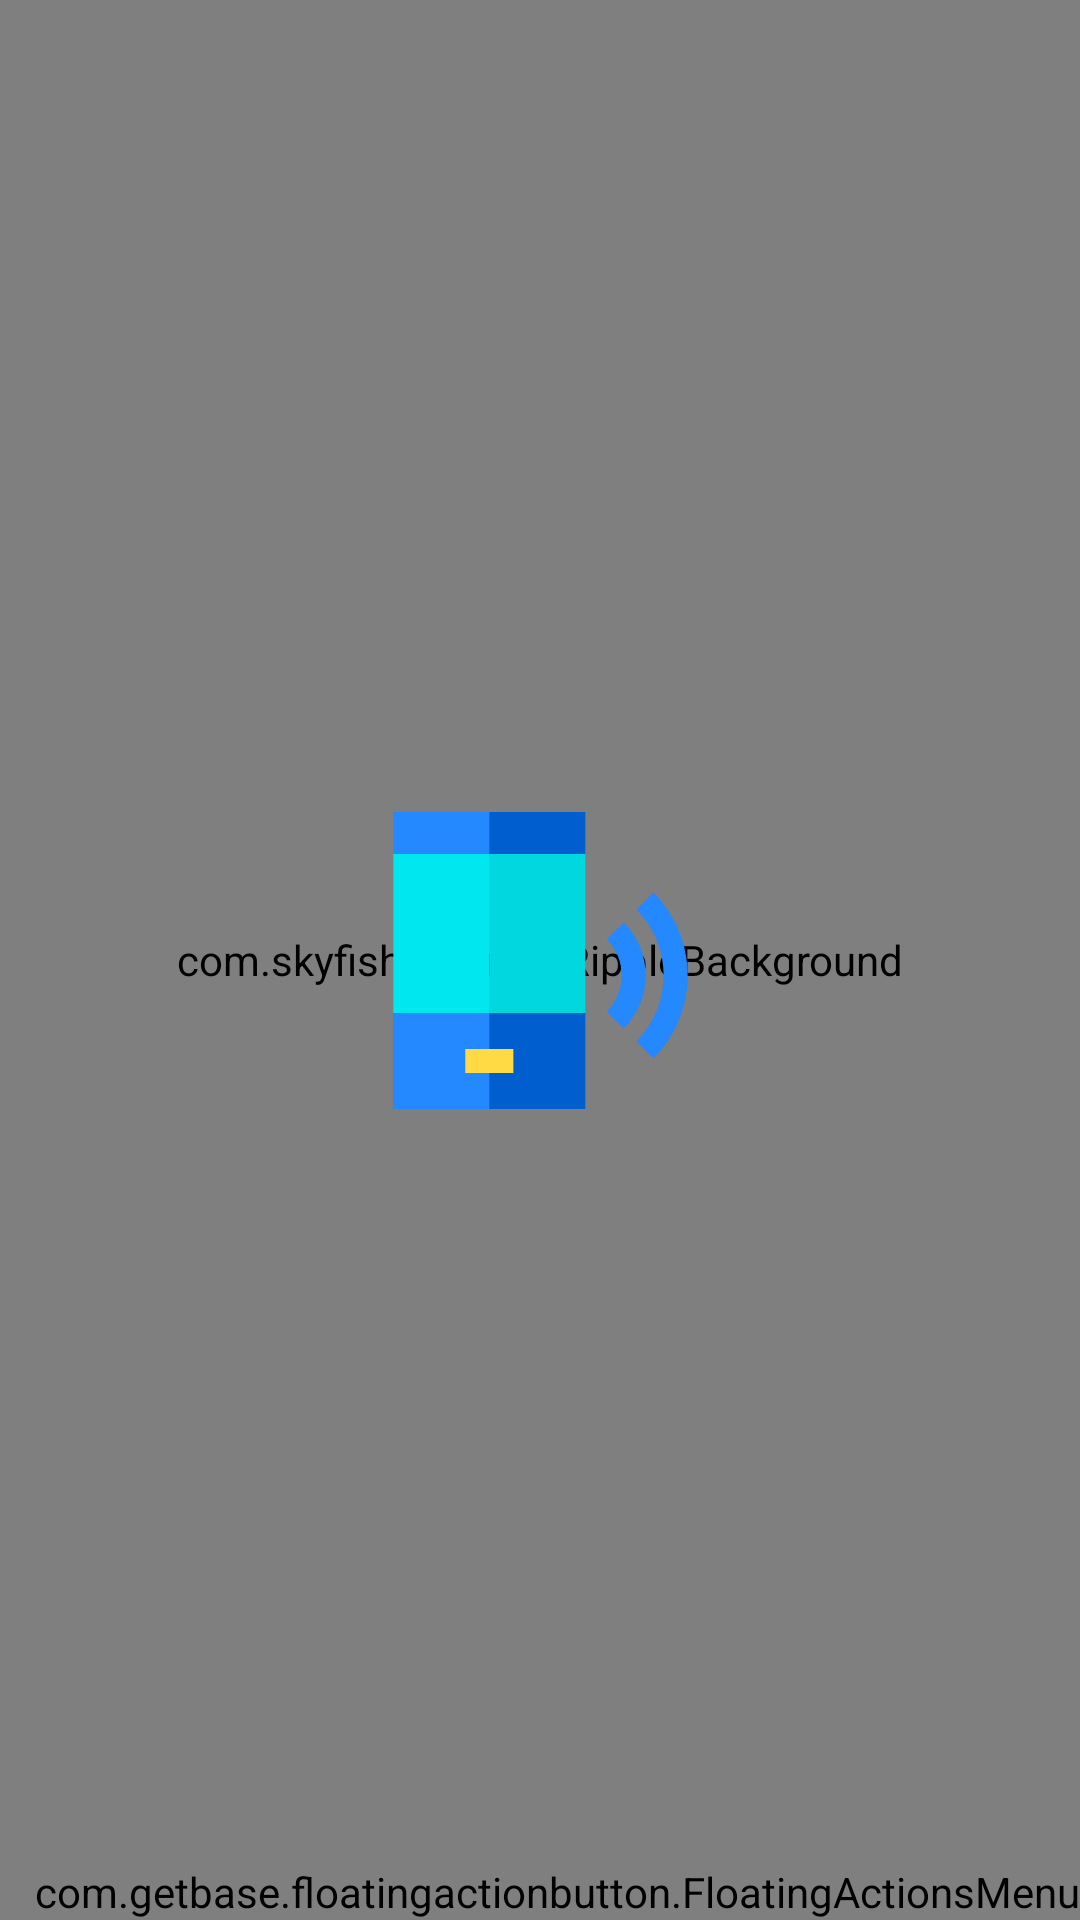

Icons on this 1080x1920 Android screen, each with its box as rect(x1, y1, x2, y2):
Image of Phone Transmitting: rect(389, 812, 692, 1109)
